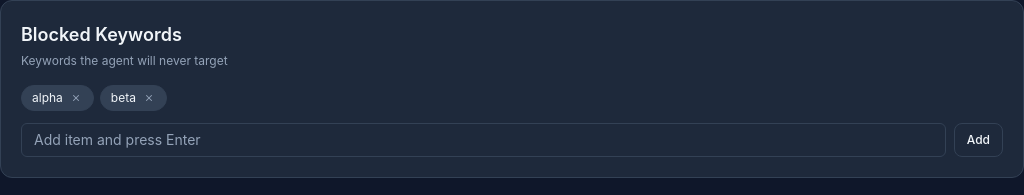
Test: BlockedListEditor › can remove items by clicking the X button
Expected: the text "alpha" is shown, [21,85,94,111]
// Each pill has a remove button (the X svg button)
Click the button without text next to "alpha". click: (76, 98)
box: [69,91,83,105]
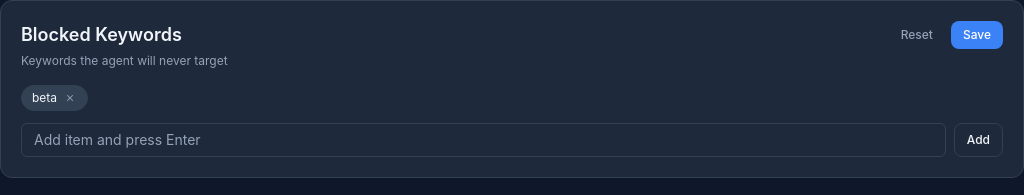
Expected: the text "beta" is shown, [21,85,88,111]
Expected: the text "alpha" is gone
